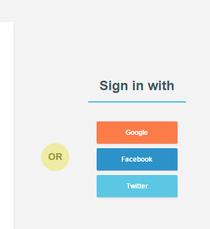button: (94, 119, 180, 146), (95, 173, 179, 200), (96, 147, 179, 171)
